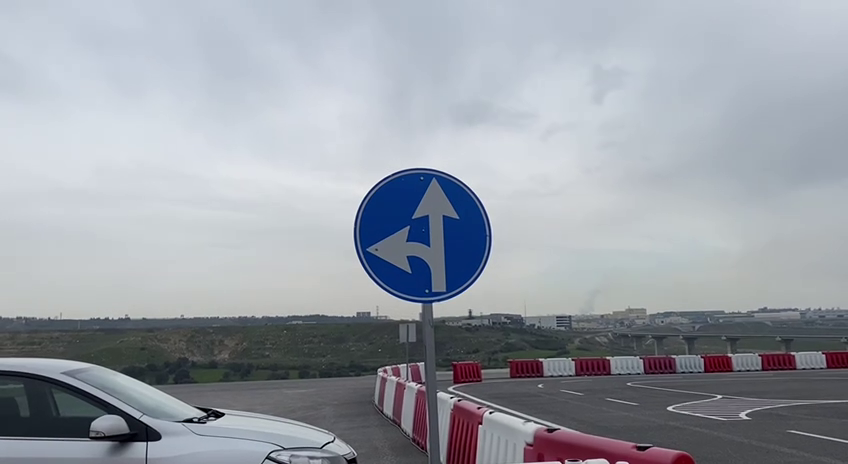forwardAndLeft: (351, 165, 495, 305)
